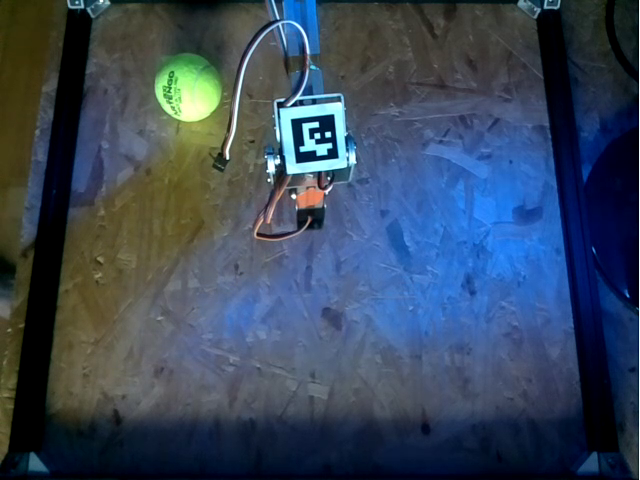tennis_ball: (155, 51, 223, 121)
